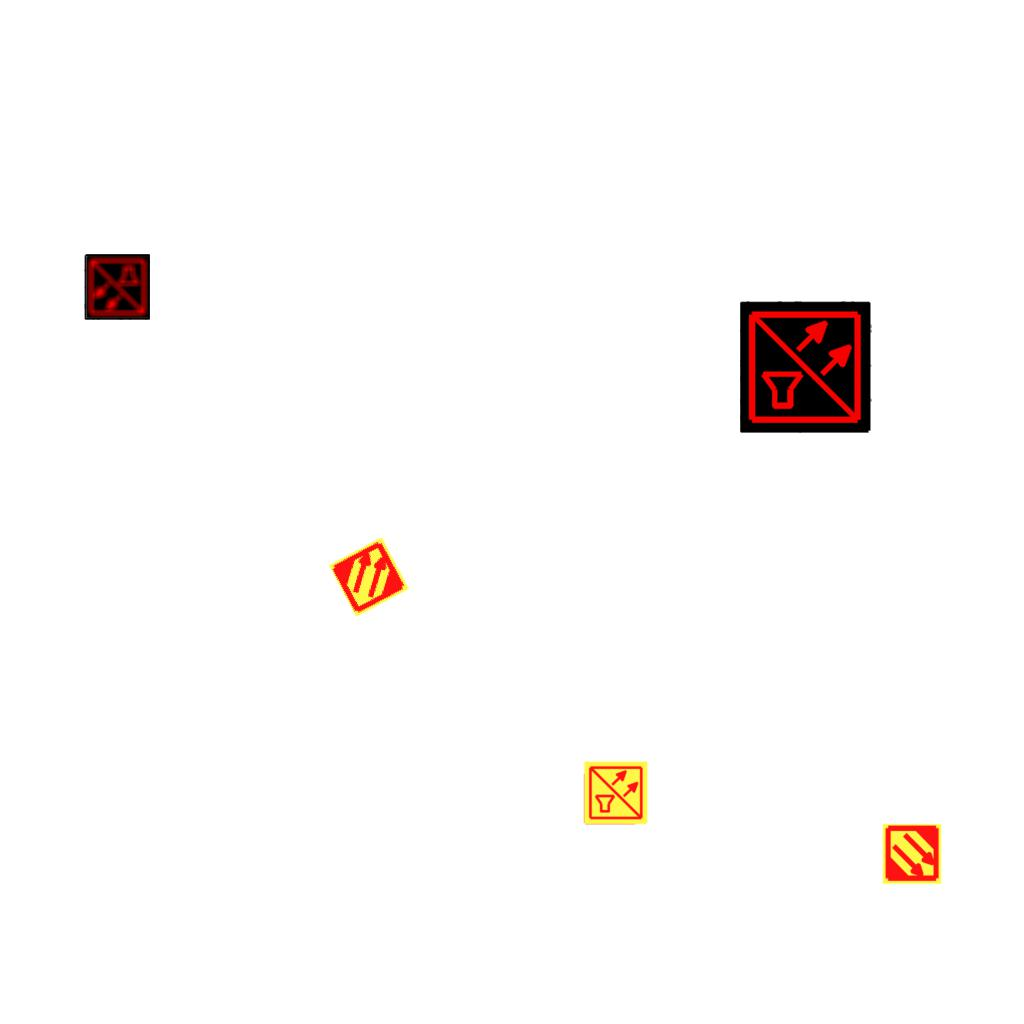ASR_Ansaugrauchmelder: (327, 535, 411, 619), (881, 823, 943, 885)
OKW_Multisensormelder_(Kombination_optischer_Rauch-Kahlenmonoxid_Waerme-Melder): (740, 301, 872, 433), (583, 760, 649, 826), (84, 254, 150, 320)
